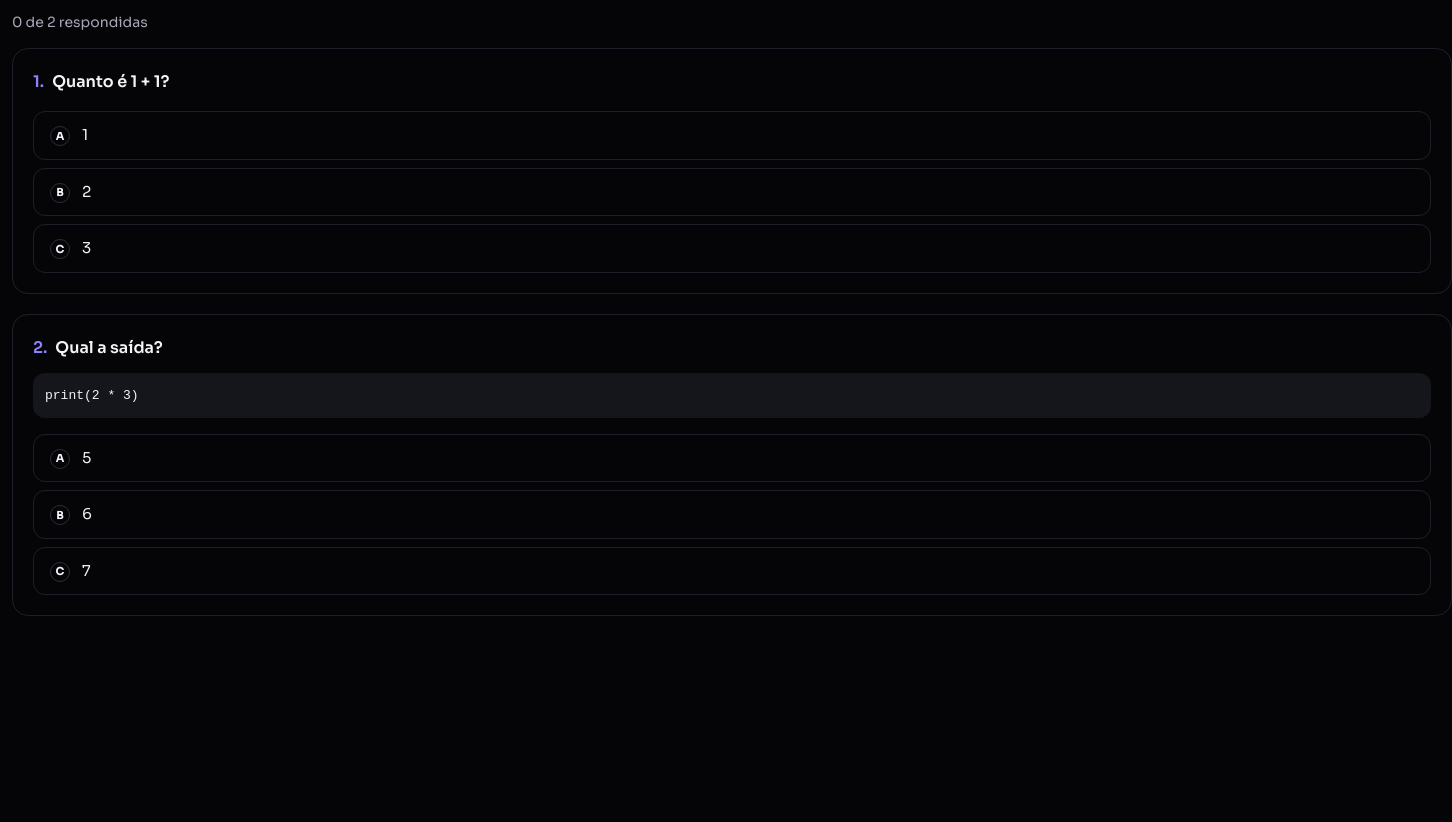
Questionario › não deixa mudar a resposta depois de dada
Click the radio button labelled "A 1" at (60, 136), box [33,111,1431,160]
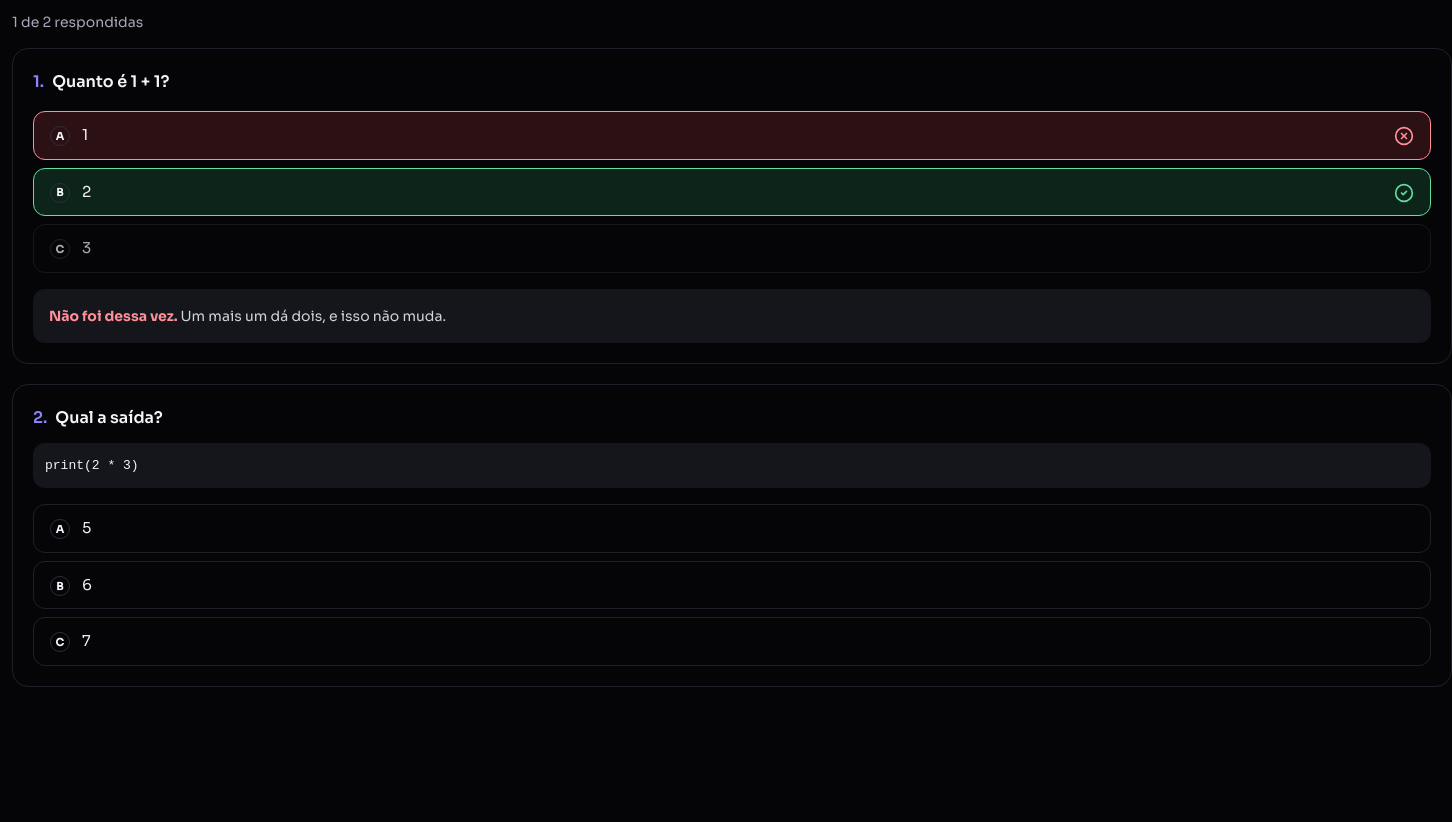
Check: the radio button labelled "A 1" is disabled, box [33,111,1431,160]
Check: the radio button labelled "B 2" is disabled, box [33,168,1431,216]
Check: the radio button labelled "C 3" is disabled, box [33,224,1431,272]
